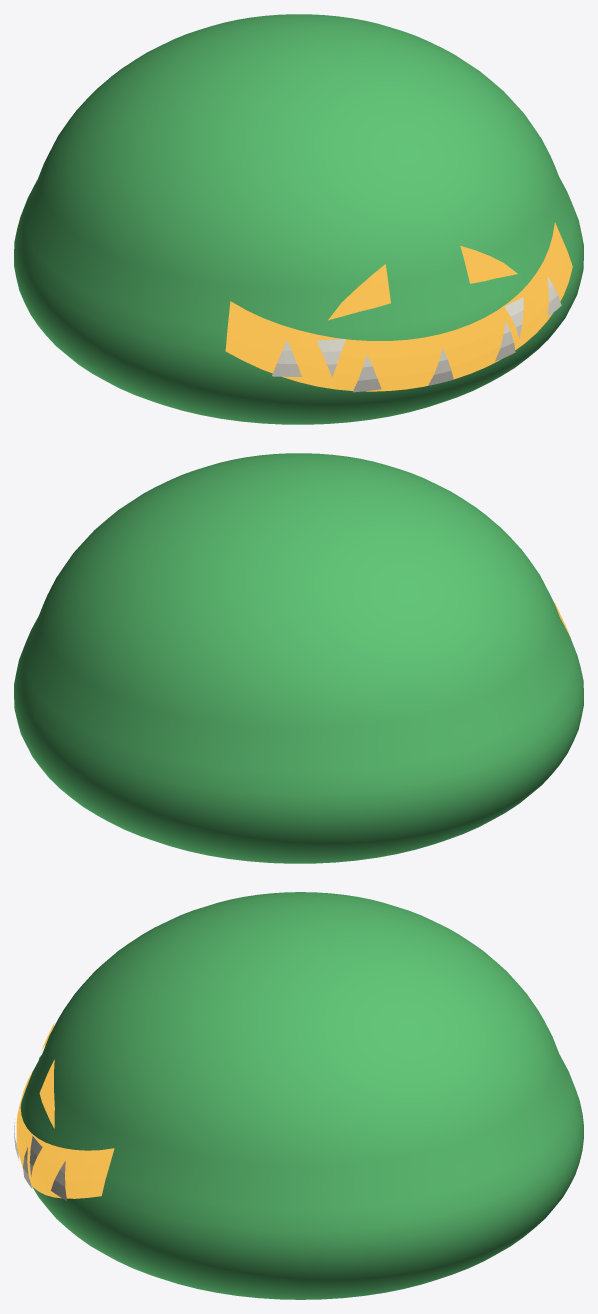
File: slime_teeth.glb
3 renders of one model, top to bottom at view 1: azimuth 30°, elevation 25°; view 2: azimuth 150°, elevation 25°; view 3: azimuth 270°, elevation 25°, orthographic.
Parts seen in each view (by area): view 1: slime_body, slime_mouth, slime_eye_L, slime_eye_R, slime_tooth_0, slime_tooth_5, slime_tooth_1; view 2: slime_body; view 3: slime_body, slime_mouth, slime_eye_R.
Part boxes in pixels (left/top/right/bottom): slime_body: left=14, top=14, right=583, bottom=424; slime_mouth: left=225, top=222, right=572, bottom=391; slime_eye_L: left=328, top=264, right=390, bottom=320; slime_eye_R: left=460, top=246, right=517, bottom=283; slime_tooth_0: left=272, top=340, right=301, bottom=376; slime_tooth_5: left=316, top=339, right=345, bottom=377; slime_tooth_1: left=353, top=354, right=381, bottom=392; slime_body: left=14, top=453, right=583, bottom=863; slime_body: left=20, top=892, right=583, bottom=1299; slime_mouth: left=16, top=1070, right=114, bottom=1198; slime_eye_R: left=39, top=1059, right=54, bottom=1128.
Bounding box in the file's own units: 1.06 × 0.665 × 1.06.
